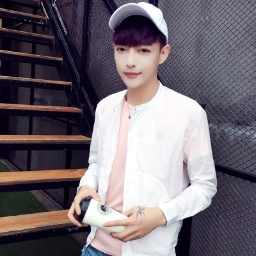face: (112, 15, 171, 89)
